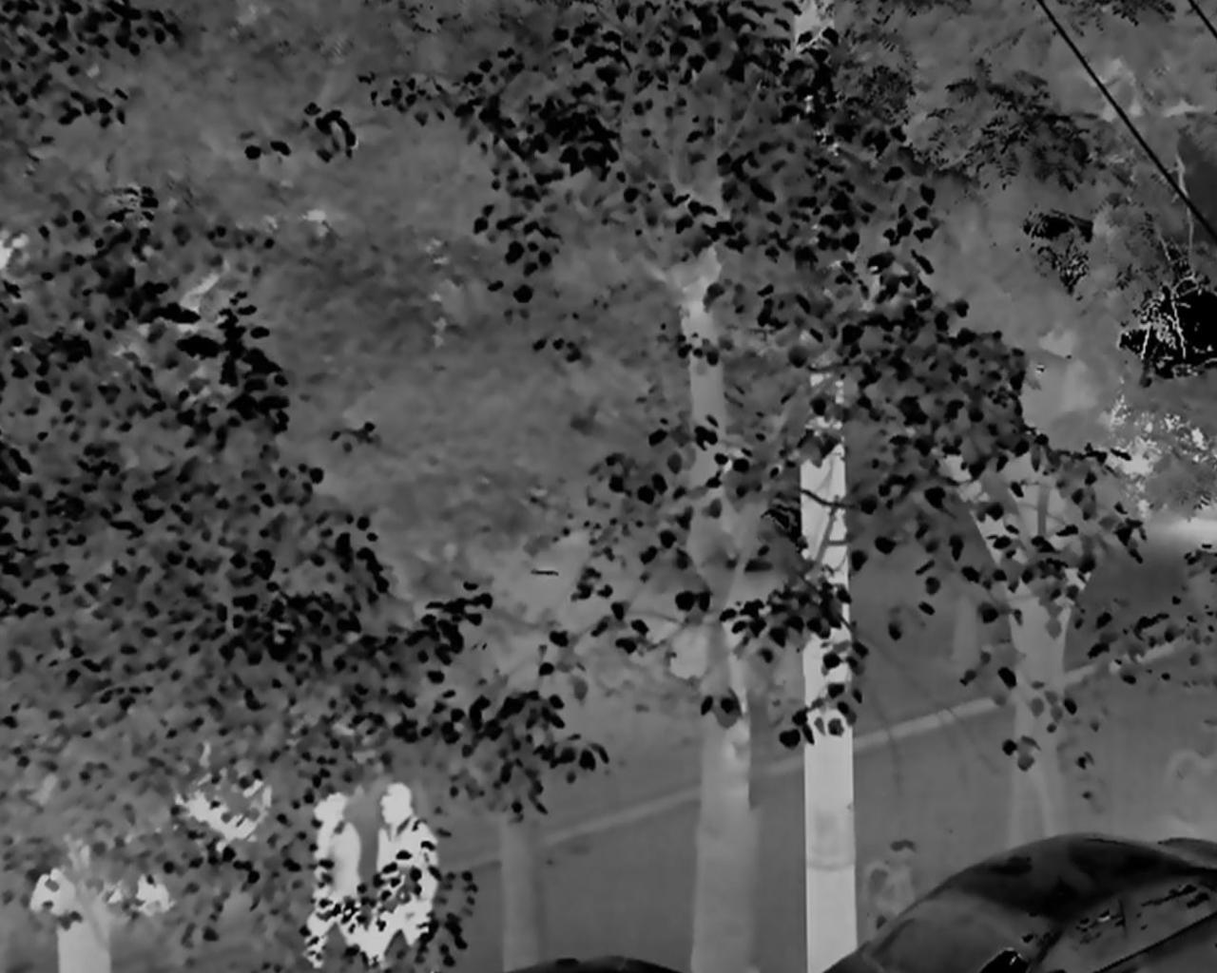person: (365, 777, 440, 973), (307, 791, 370, 961)
